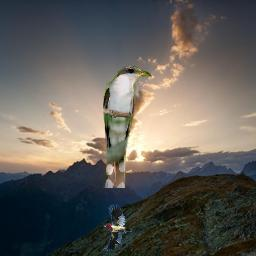Cuckoo: (102, 65, 152, 188)
Woodpecker: (103, 204, 133, 251)
